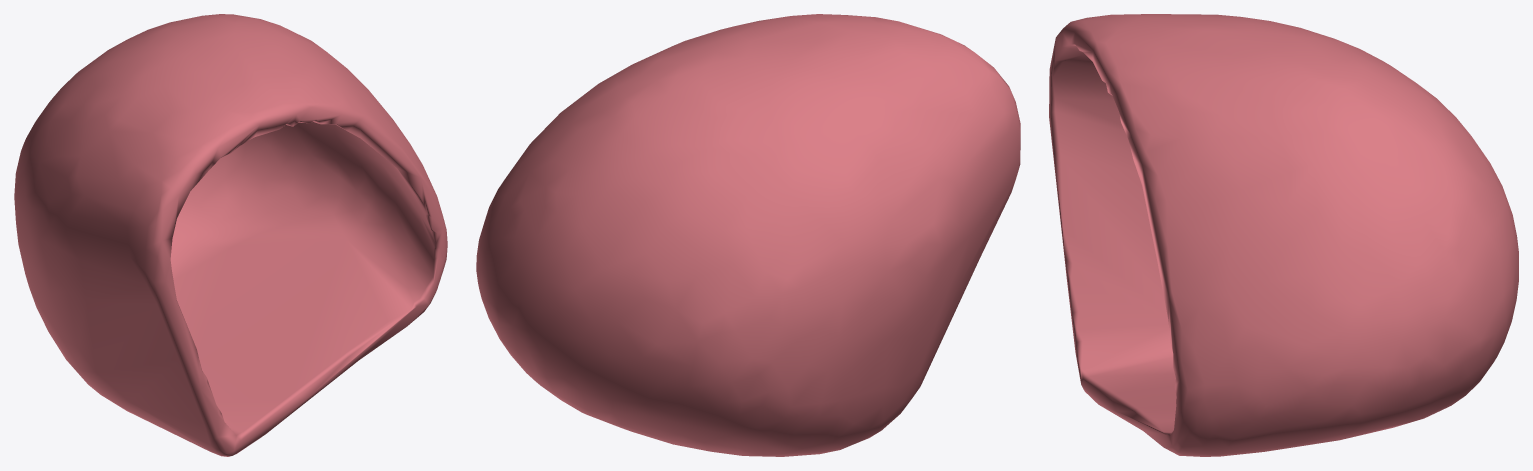
3 views of the same model, side by side, from view 1: azimuth 30°, elevation 25°; view 2: azimuth 150°, elevation 25°; view 3: azimuth 270°, elevation 25° (orthographic). The views are drawn at different scales.
Visible parts, largest first — view 1: 肺动脉瓣左半月瓣; view 2: 肺动脉瓣左半月瓣; view 3: 肺动脉瓣左半月瓣.
Boxes of the visible parts, box(x1,y1,x2,y2) form: 肺动脉瓣左半月瓣: box(14, 14, 447, 456); 肺动脉瓣左半月瓣: box(476, 14, 1020, 456); 肺动脉瓣左半月瓣: box(1049, 14, 1518, 456).
Size of the model in its own units: 0.0262 by 0.0224 by 0.0251.
